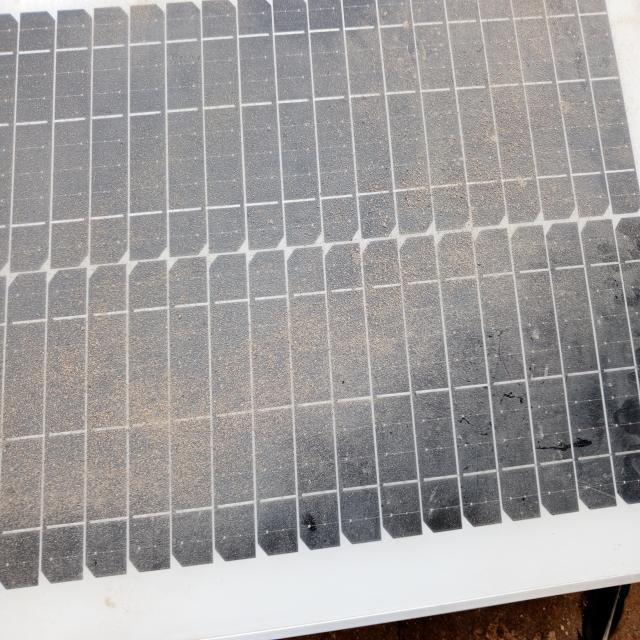Anomaly Solar Panel: (4, 5, 639, 579)
Surface Contaminant: (8, 12, 639, 518)
